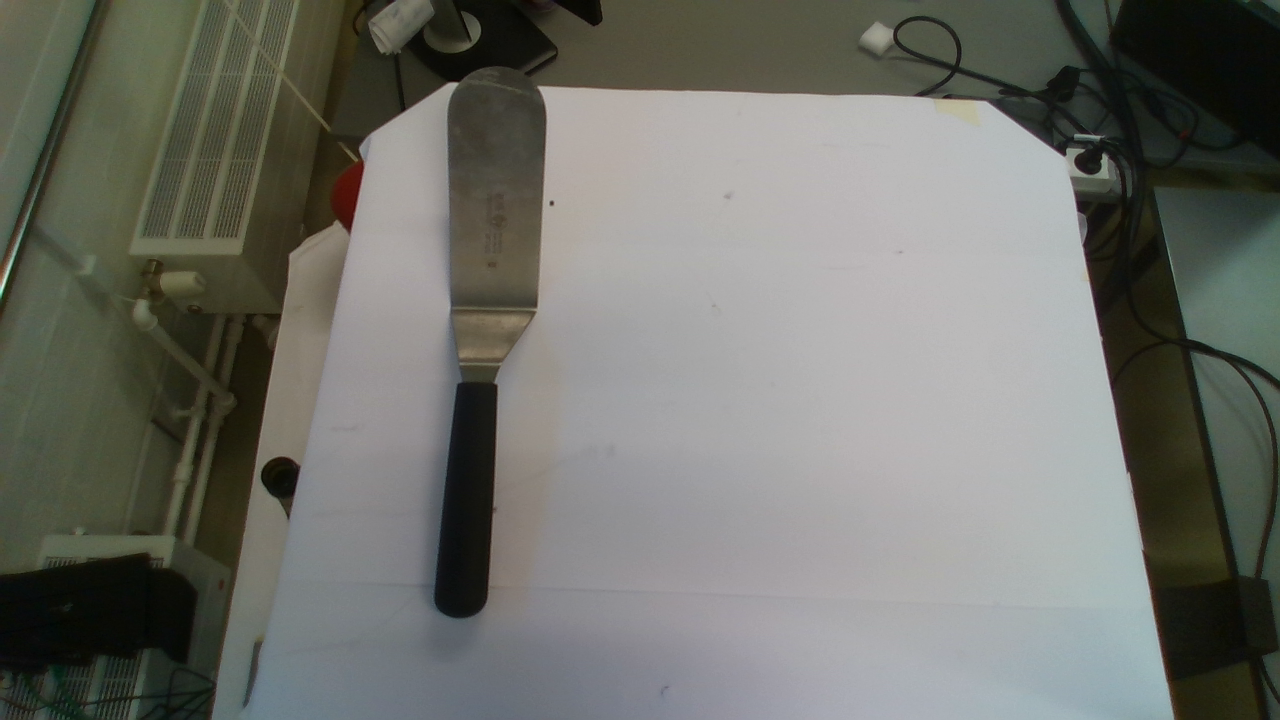spatula: (433, 65, 547, 618)
